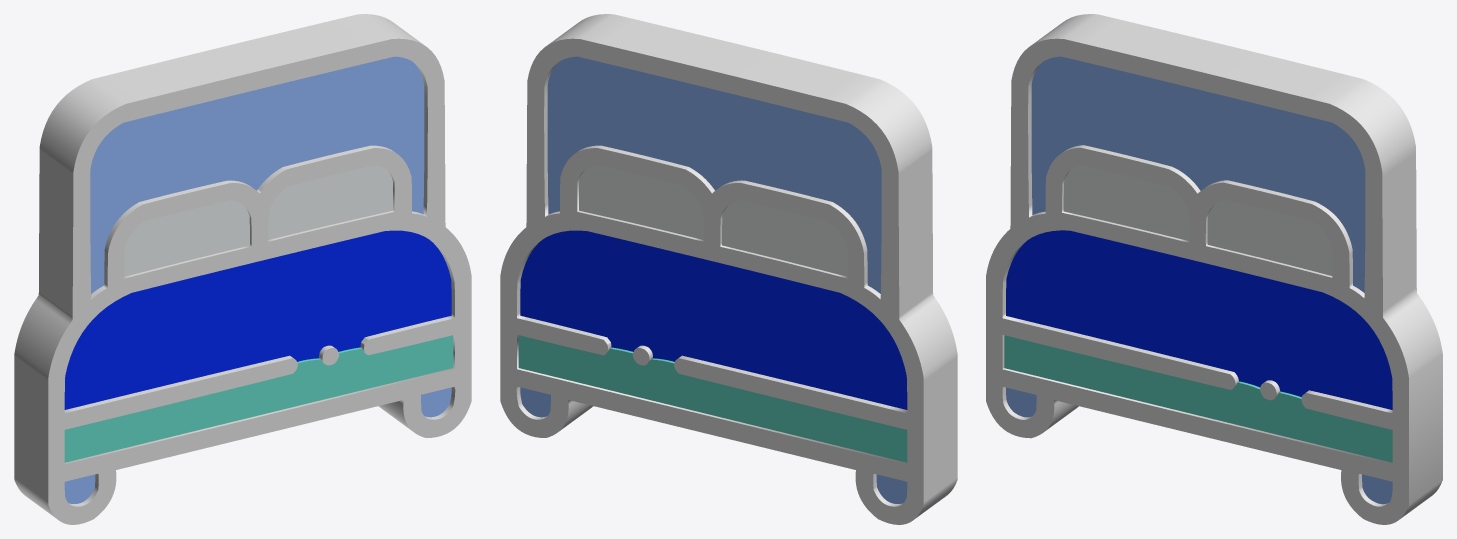
Rendered from sleep.fbx.
3 renders of one model, left to right at view 1: azimuth 30°, elevation 25°; view 2: azimuth 150°, elevation 25°; view 3: azimuth 330°, elevation 25°, orthographic.
Parts seen in each view (by area): view 1: @精致睡眠.001; view 2: @精致睡眠.001; view 3: @精致睡眠.001.
Part boxes in pixels (x1,y1,x2,y2): @精致睡眠.001: [14, 14, 471, 524]; @精致睡眠.001: [500, 14, 957, 524]; @精致睡眠.001: [986, 14, 1442, 524].
Size of the model in its own units: 70.7 by 65.35 by 9.79.
